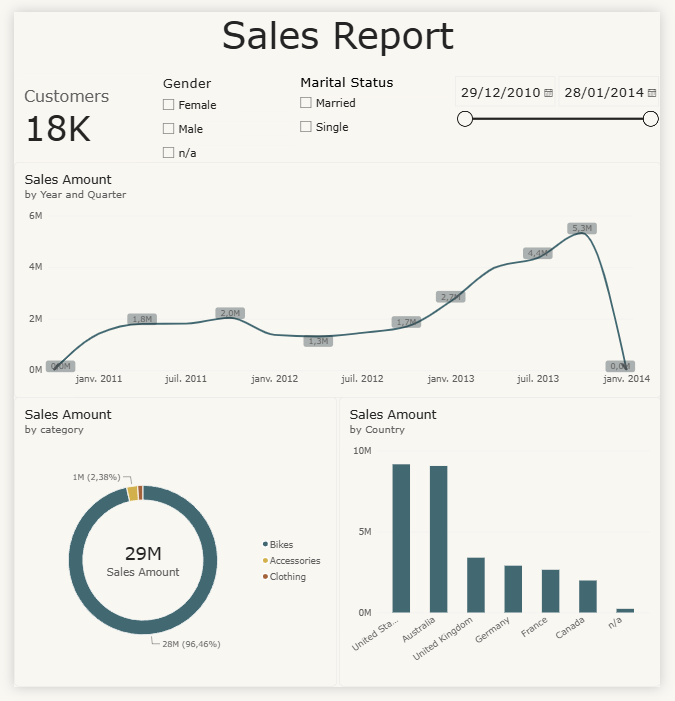

This screenshot's page, from the dashboard's own definition file:
{"tool":"powerbi","page":{"name":"Page 1","canvas":[1035,1080],"ordinal":0},"visuals":[{"type":"lineChart","fields":{"Category":["fact_sales.order_date.Variation.Date Hierarchy.Year","fact_sales.order_date.Variation.Date Hierarchy.Quarter","fact_sales.order_date.Variation.Date Hierarchy.Month","fact_sales.order_date.Variation.Date Hierarchy.Day"],"Y":["Sum(gold fact_sales.sales_amount)"]},"box":[0,240,1035,377.5],"z":0},{"type":"donutChart","fields":{"Category":["gold dim_products.category"],"Y":["Sum(gold fact_sales.sales_amount)"]},"box":[0,616.7,517,463],"z":1000},{"type":"lineStackedColumnComboChart","fields":{"Category":["dim_customers.country"],"Y":["Sum(fact_sales.sales_amount)"]},"box":[520,616.2,515,463],"z":2000},{"type":"slicer","fields":{"Values":["dim_customers.gender"]},"box":[230,100,220,141.7],"z":3000},{"type":"slicer","fields":{"Values":["dim_customers.marital_status"]},"box":[450,98.3,248.3,143.3],"z":4000},{"type":"cardVisual","fields":{"Data":["dim_customers.Number of Customers"]},"box":[0,98.3,230,141.7],"z":5000},{"type":"textbox","box":[0,0,1035,75],"z":6000},{"type":"slicer","fields":{"Values":["fact_sales.order_date"]},"box":[698.3,98.3,336.7,141.7],"z":6001}]}

Visuals, with their boxes in screenshot pixels (x1, y1, x2, y2), scaled from the page's 1035x1080 canvas onto the 675x701 screenshot:
lineChart - fact_sales.order_date.Variation.Date Hierarchy.Year x fact_sales.order_date.Variation.Date Hierarchy.Quarter: {"x1": 0, "y1": 156, "x2": 674, "y2": 401}
donutChart - gold dim_products.category x Sum(gold fact_sales.sales_amount): {"x1": 0, "y1": 400, "x2": 337, "y2": 700}
lineStackedColumnComboChart - dim_customers.country x Sum(fact_sales.sales_amount): {"x1": 339, "y1": 400, "x2": 674, "y2": 700}
slicer - dim_customers.gender: {"x1": 150, "y1": 65, "x2": 293, "y2": 157}
slicer - dim_customers.marital_status: {"x1": 293, "y1": 64, "x2": 455, "y2": 157}
cardVisual - dim_customers.Number of Customers: {"x1": 0, "y1": 64, "x2": 150, "y2": 156}
textbox: {"x1": 0, "y1": 0, "x2": 674, "y2": 49}
slicer - fact_sales.order_date: {"x1": 455, "y1": 64, "x2": 674, "y2": 156}
